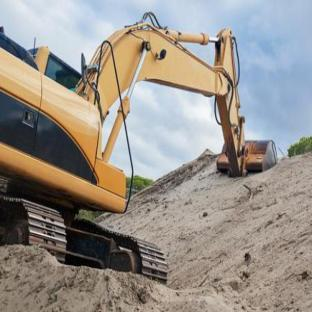ExcavationMachinery: (1, 17, 285, 293)
